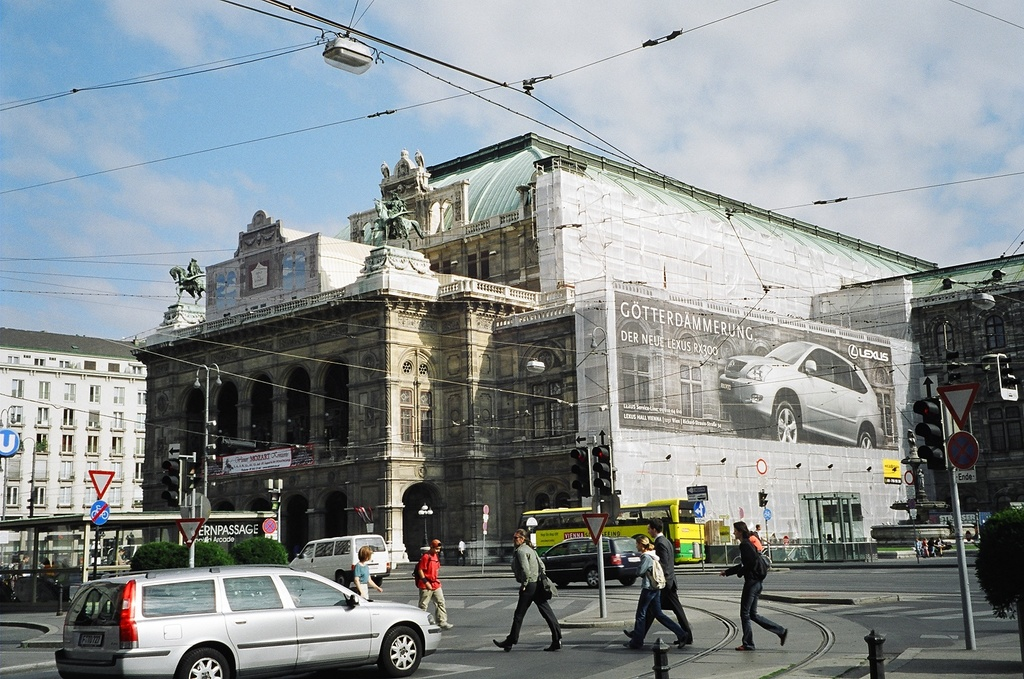Car: (54, 564, 441, 678), (716, 340, 883, 446), (288, 535, 390, 588), (539, 537, 641, 590)
